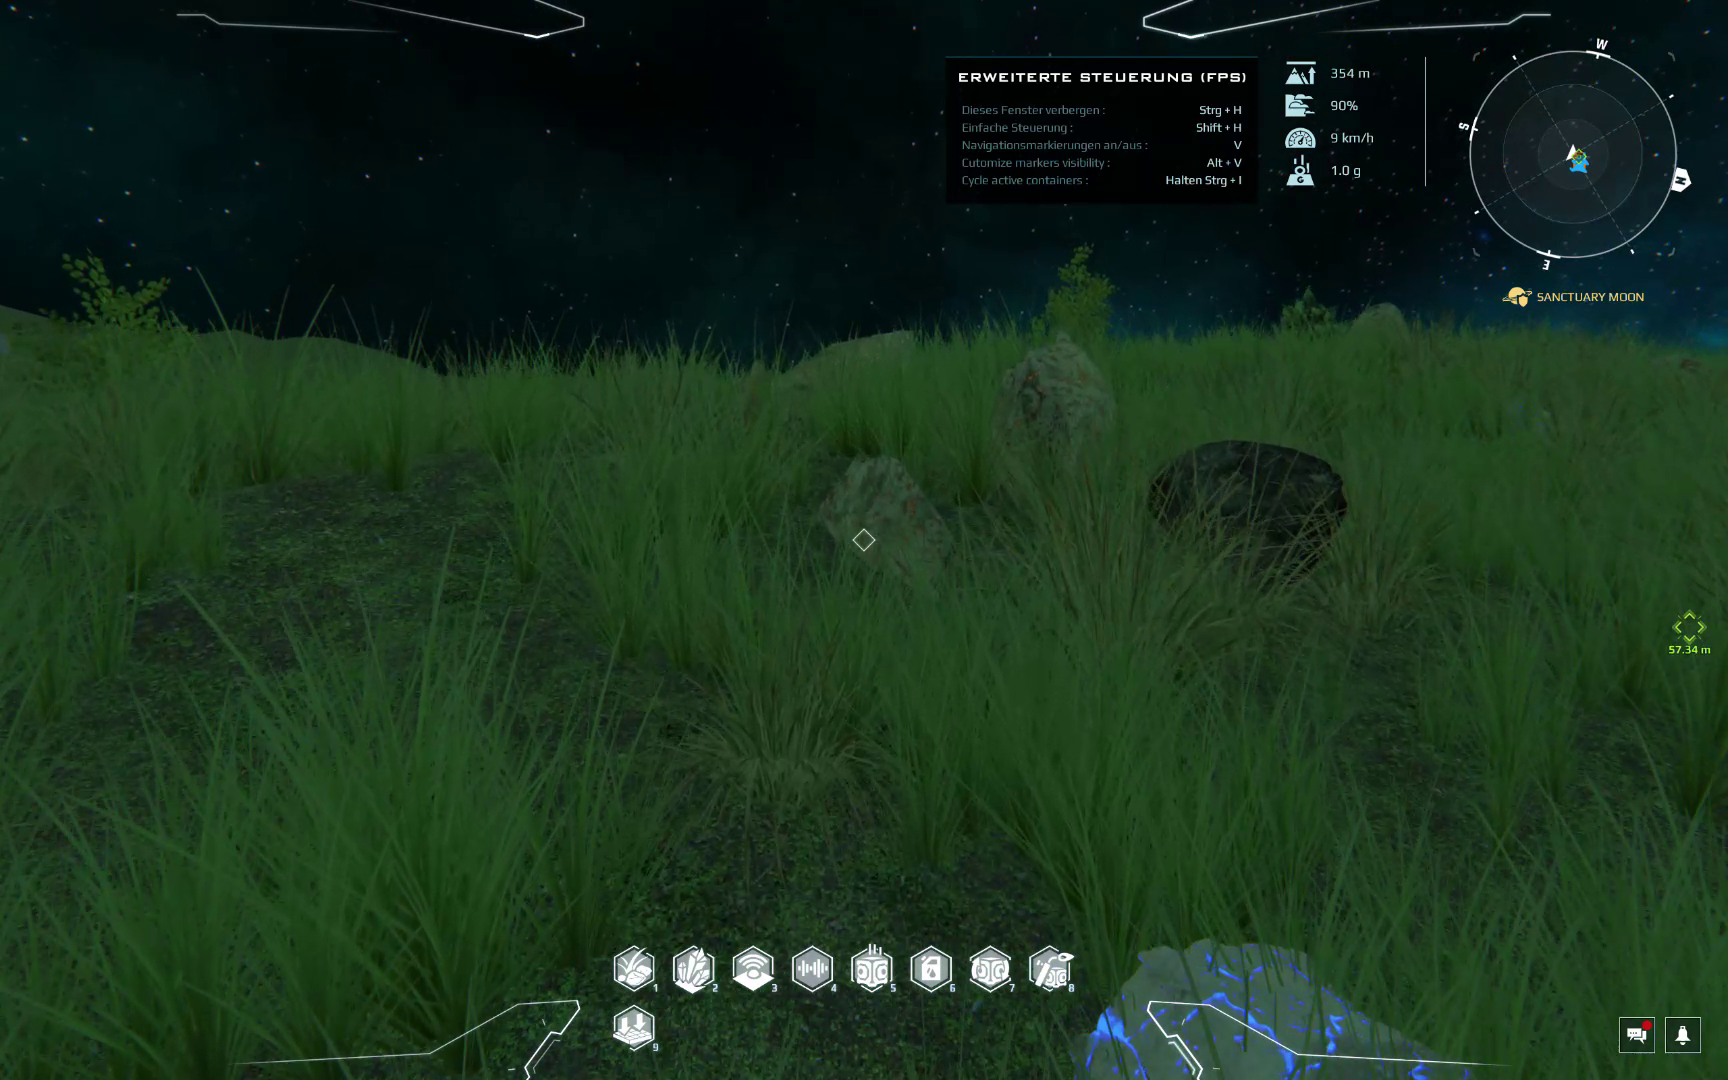Ore: (1089, 937, 1495, 1080), (1146, 439, 1350, 581), (985, 337, 1116, 538), (812, 455, 952, 594), (779, 330, 917, 392)
